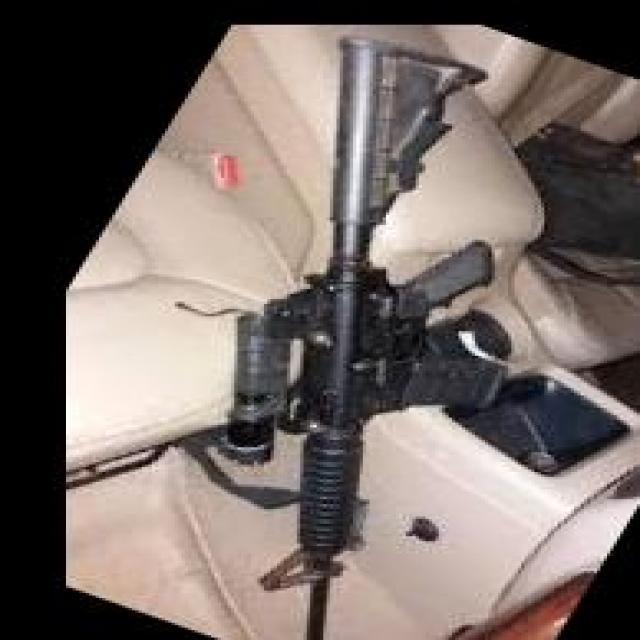weapon: (216, 36, 512, 640)
